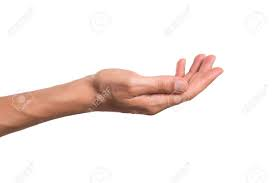hand: (87, 44, 229, 121)
